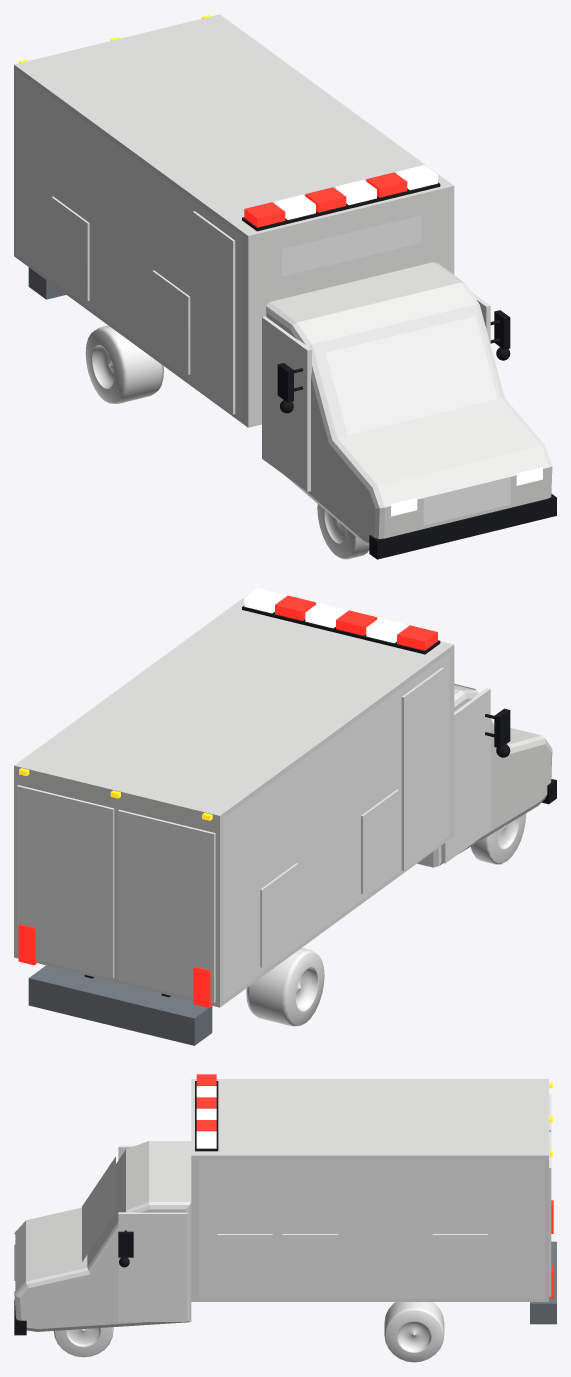
Rendered from fleet--ambulance.glb.
3 views of the same model, one above another, from view 1: azimuth 30°, elevation 25°; view 2: azimuth 150°, elevation 25°; view 3: azimuth 270°, elevation 25° (orthographic). The views are drawn at different scales.
Parts seen in each view (by area): view 1: ambulance:shell, doorSide, doorR, compartments, warningLights, axle2, wheelFR, mirrorR, mirrorL, headlights; view 2: ambulance:shell, doorRearR, doorRearL, doorSide, compartments, doorR, warningLights, axle2, wheelFR, tailLights, mirrorR; view 3: ambulance:shell, compartments, doorL, axle2, warningLights, wheelFL, mirrorL, doorRearL.
Boxes of the visible parts, <box> form: ambulance:shell: <box>14,14,556,559</box>; doorSide: <box>192,211,235,414</box>; doorR: <box>262,316,311,491</box>; compartments: <box>51,196,190,374</box>; warningLights: <box>242,165,440,231</box>; axle2: <box>85,325,163,403</box>; wheelFR: <box>317,504,369,559</box>; mirrorR: <box>277,363,303,413</box>; mirrorL: <box>490,310,510,360</box>; headlights: <box>390,467,542,516</box>; ambulance:shell: <box>14,594,556,1045</box>; doorRearR: <box>118,809,215,1002</box>; doorRearL: <box>17,785,114,978</box>; doorSide: <box>401,667,444,870</box>; compartments: <box>260,789,398,967</box>; doorR: <box>441,688,490,863</box>; warningLights: <box>242,588,440,654</box>; axle2: <box>246,948,324,1026</box>; wheelFR: <box>470,813,526,864</box>; tailLights: <box>18,924,210,1007</box>; mirrorR: <box>485,708,510,757</box>; ambulance:shell: <box>14,1079,556,1335</box>; compartments: <box>217,1234,487,1293</box>; doorL: <box>118,1212,187,1321</box>; axle2: <box>384,1302,444,1362</box>; warningLights: <box>195,1074,218,1151</box>; wheelFL: <box>53,1327,113,1357</box>; mirrorL: <box>118,1230,133,1267</box>; doorRearL: <box>549,1132,551,1296</box>.
Size of the model in its own units: 2.62 by 3.13 by 7.06.
